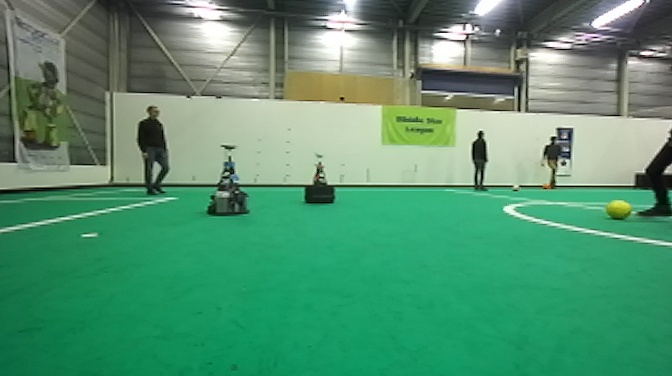ball: (607, 199, 632, 222), (510, 182, 521, 192), (541, 180, 552, 190)
human: (634, 125, 672, 218), (136, 103, 172, 197), (467, 128, 492, 191), (538, 131, 560, 189)
robot: (205, 143, 252, 217), (305, 154, 337, 205)
